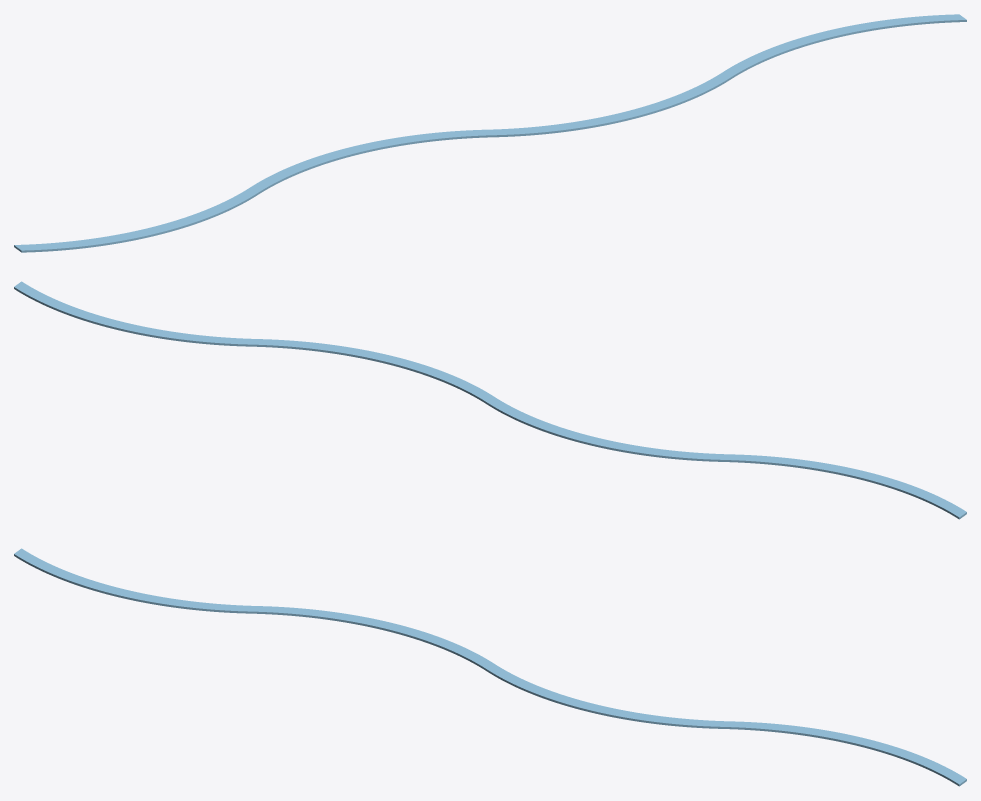
File: ChicaneSide.dae
3 renders of one model, top to bottom at view 1: azimuth 30°, elevation 25°; view 2: azimuth 150°, elevation 25°; view 3: azimuth 330°, elevation 25°, orthographic.
Parts seen in each view (by area): view 1: 5e41f117c9e08715c0e9b709; view 2: 5e41f117c9e08715c0e9b709; view 3: 5e41f117c9e08715c0e9b709.
Part boxes in pixels (<box>): 5e41f117c9e08715c0e9b709: <box>14,14,966,252</box>; 5e41f117c9e08715c0e9b709: <box>14,281,966,519</box>; 5e41f117c9e08715c0e9b709: <box>14,548,966,786</box>.
Bounding box in the file's own units: 1.44 × 0.1055 × 0.003.
